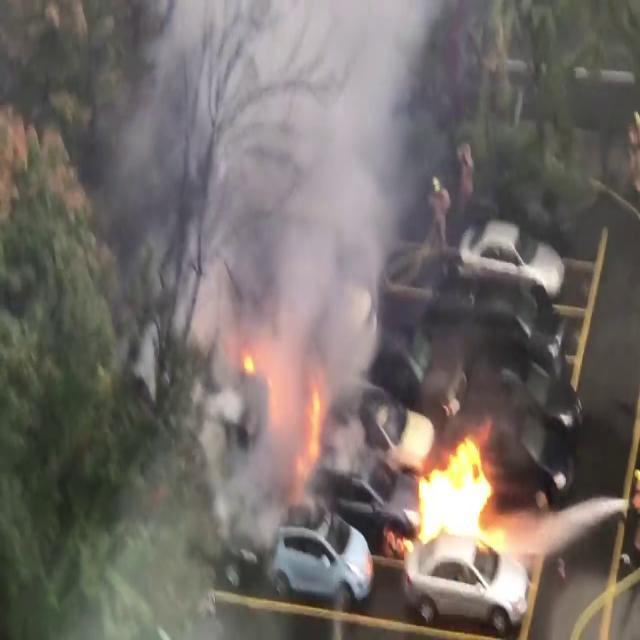Fire: (387, 422, 510, 558)
Smoke: (88, 0, 465, 380), (201, 314, 358, 549)
